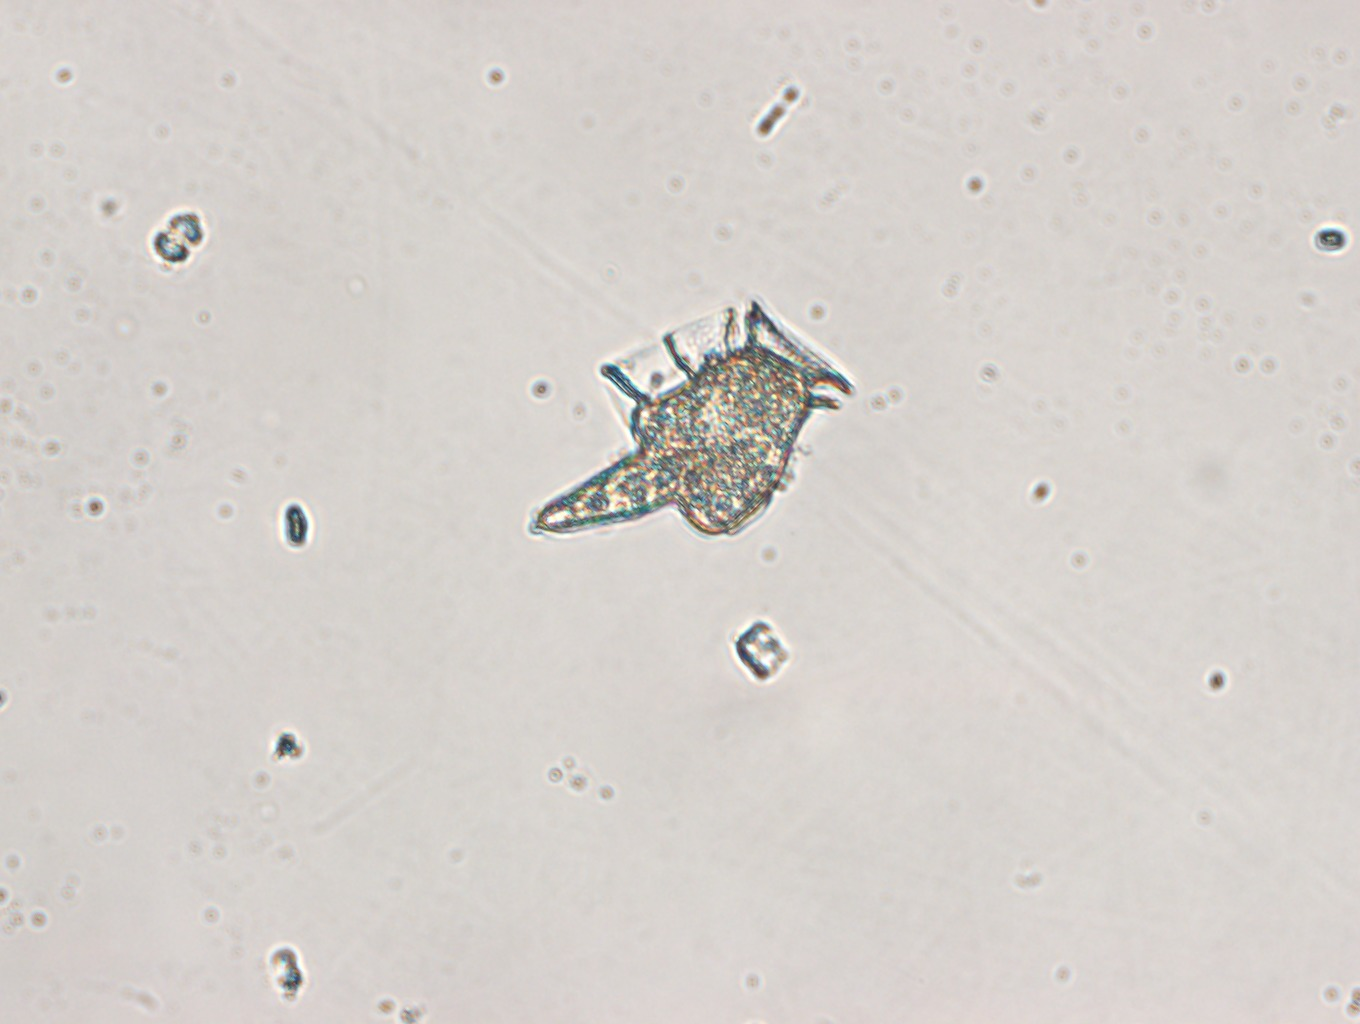dinophysis caudata: (526, 295, 856, 540)
